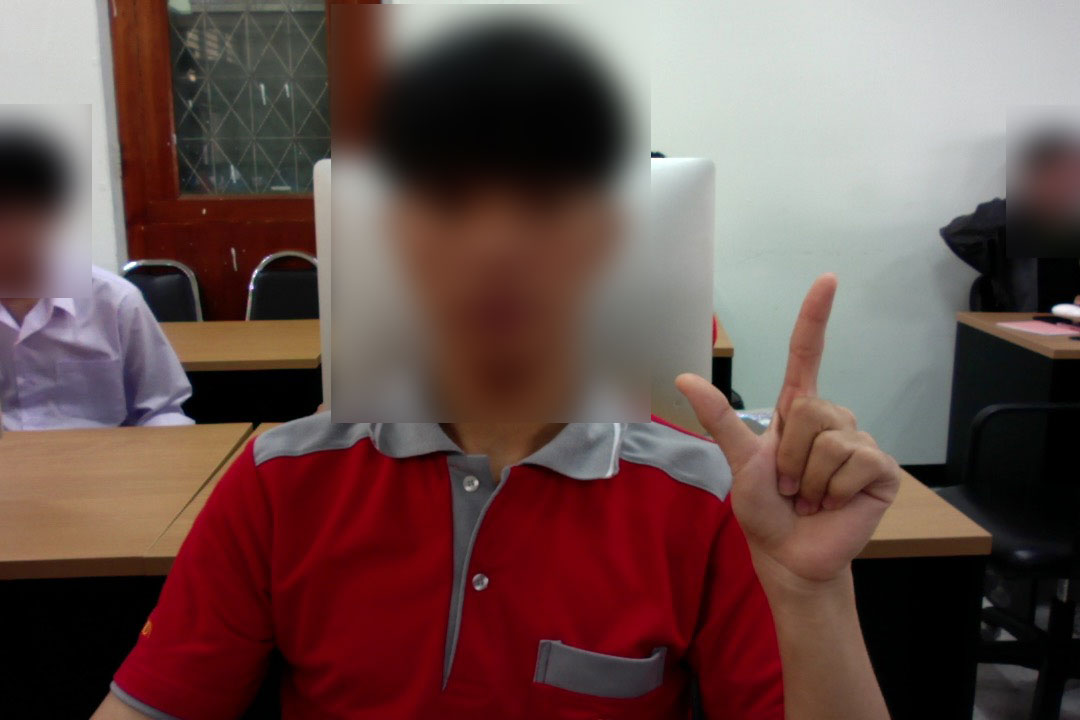lor: (662, 272, 921, 601)
